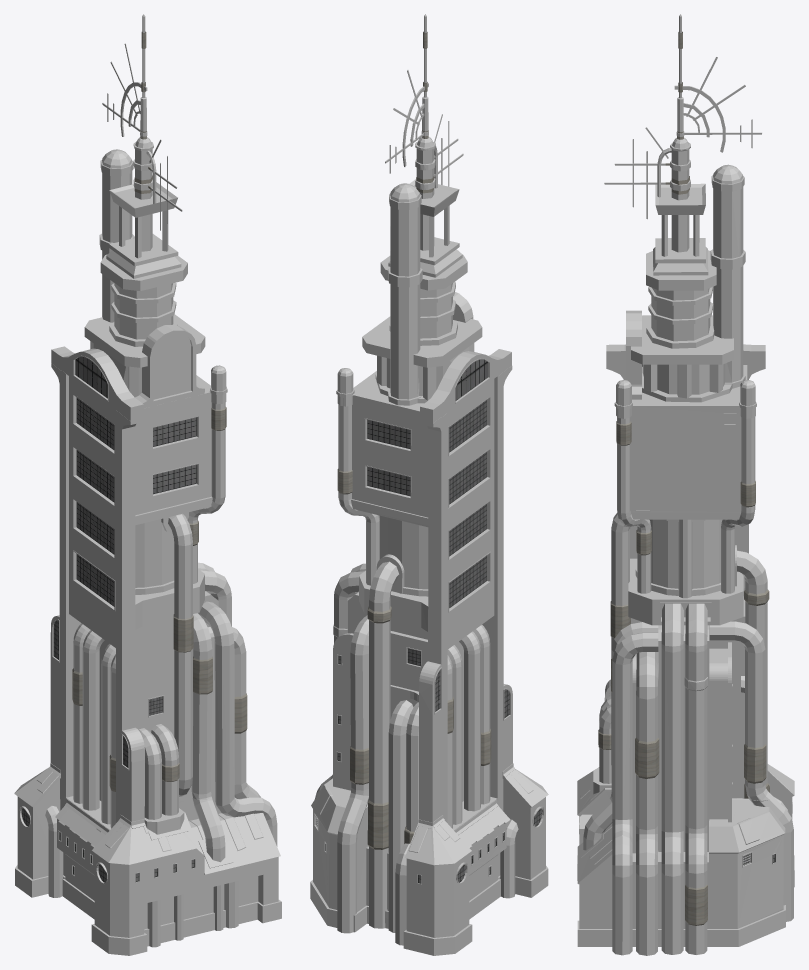
Rendered from CommonBuilding_G_Distant.fbx.
3 views of the same model, side by side, from view 1: azimuth 30°, elevation 25°; view 2: azimuth 150°, elevation 25°; view 3: azimuth 270°, elevation 25° (orthographic).
Parts seen in each view (by area): view 1: SM_ENV_AMVLLG02_CommonBuilding_G_Distant.mo; view 2: SM_ENV_AMVLLG02_CommonBuilding_G_Distant.mo; view 3: SM_ENV_AMVLLG02_CommonBuilding_G_Distant.mo.
Part boxes in pixels (bbox=[...]): SM_ENV_AMVLLG02_CommonBuilding_G_Distant.mo: bbox=[14, 14, 281, 955]; SM_ENV_AMVLLG02_CommonBuilding_G_Distant.mo: bbox=[310, 14, 548, 955]; SM_ENV_AMVLLG02_CommonBuilding_G_Distant.mo: bbox=[577, 14, 794, 955].
Bounding box in the file's own units: 2331 × 10729 × 2376.
